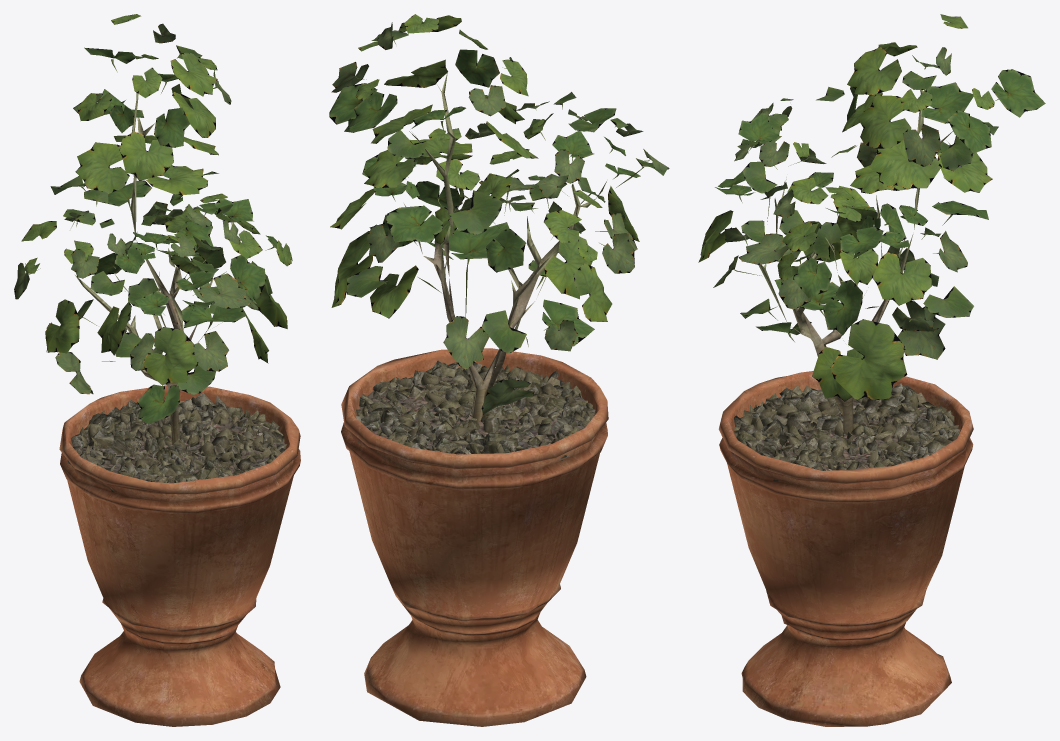
File: potted_plant_01.glb
The picture shows the model from 3 angles, left to right: view 1: azimuth 30°, elevation 25°; view 2: azimuth 150°, elevation 25°; view 3: azimuth 270°, elevation 25°; orthographic projection. The views are drawn at different scales.
Parts seen in each view (by area): view 1: potted_plant_01_stem, potted_plant_01_leaves; view 2: potted_plant_01_stem, potted_plant_01_leaves; view 3: potted_plant_01_stem, potted_plant_01_leaves.
Boxes of the visible parts, x1,y1,x2,y2 form: potted_plant_01_stem: (59,92,300,726); potted_plant_01_leaves: (14,14,292,423); potted_plant_01_stem: (341,72,608,726); potted_plant_01_leaves: (329,14,669,414); potted_plant_01_stem: (718,90,973,726); potted_plant_01_leaves: (698,14,1045,401).
Size of the model in its own units: 0.5866 by 1.34 by 0.6336.
2 materials, 2 textured.
